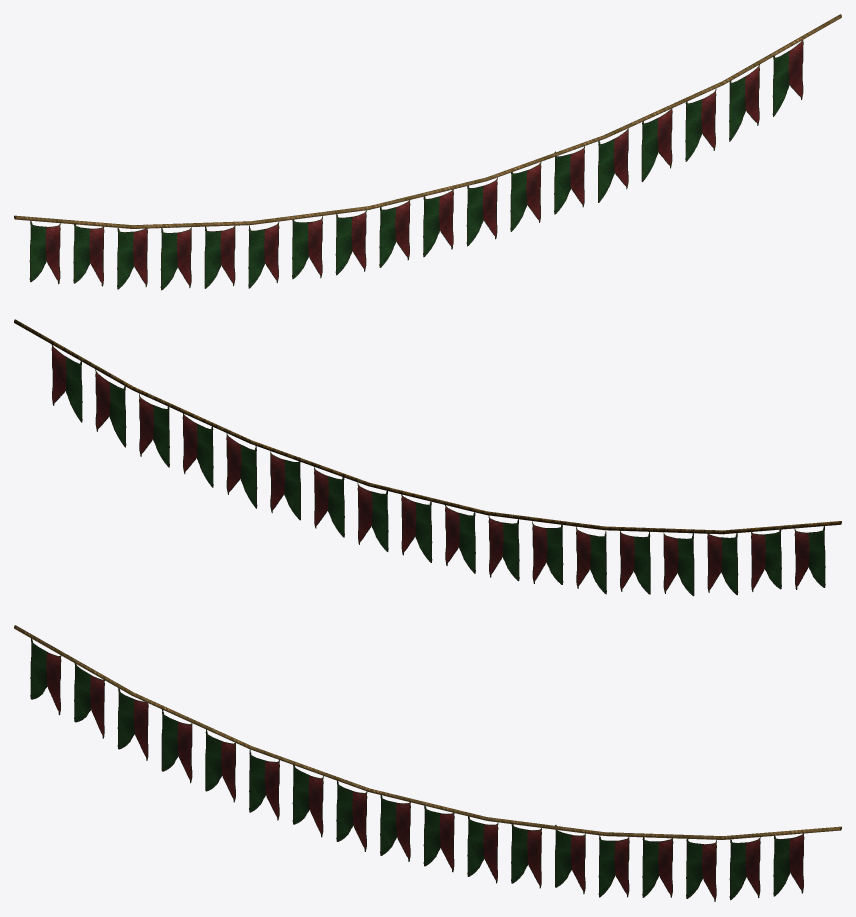
The model's file is KM_VOB_RIBBONS_GR_4M.glb.
3 renders of one model, top to bottom at view 1: azimuth 30°, elevation 25°; view 2: azimuth 150°, elevation 25°; view 3: azimuth 330°, elevation 25°, orthographic.
Parts seen in each view (by area): view 1: Mesh; view 2: Mesh; view 3: Mesh.
Part boxes in pixels (box(x1,y1,x2,y2)): Mesh: box(14, 14, 841, 290); Mesh: box(14, 319, 841, 596); Mesh: box(14, 625, 841, 901).
Bounding box in the file's own units: 4 × 0.661 × 0.0156.
2 materials, 2 textured.
